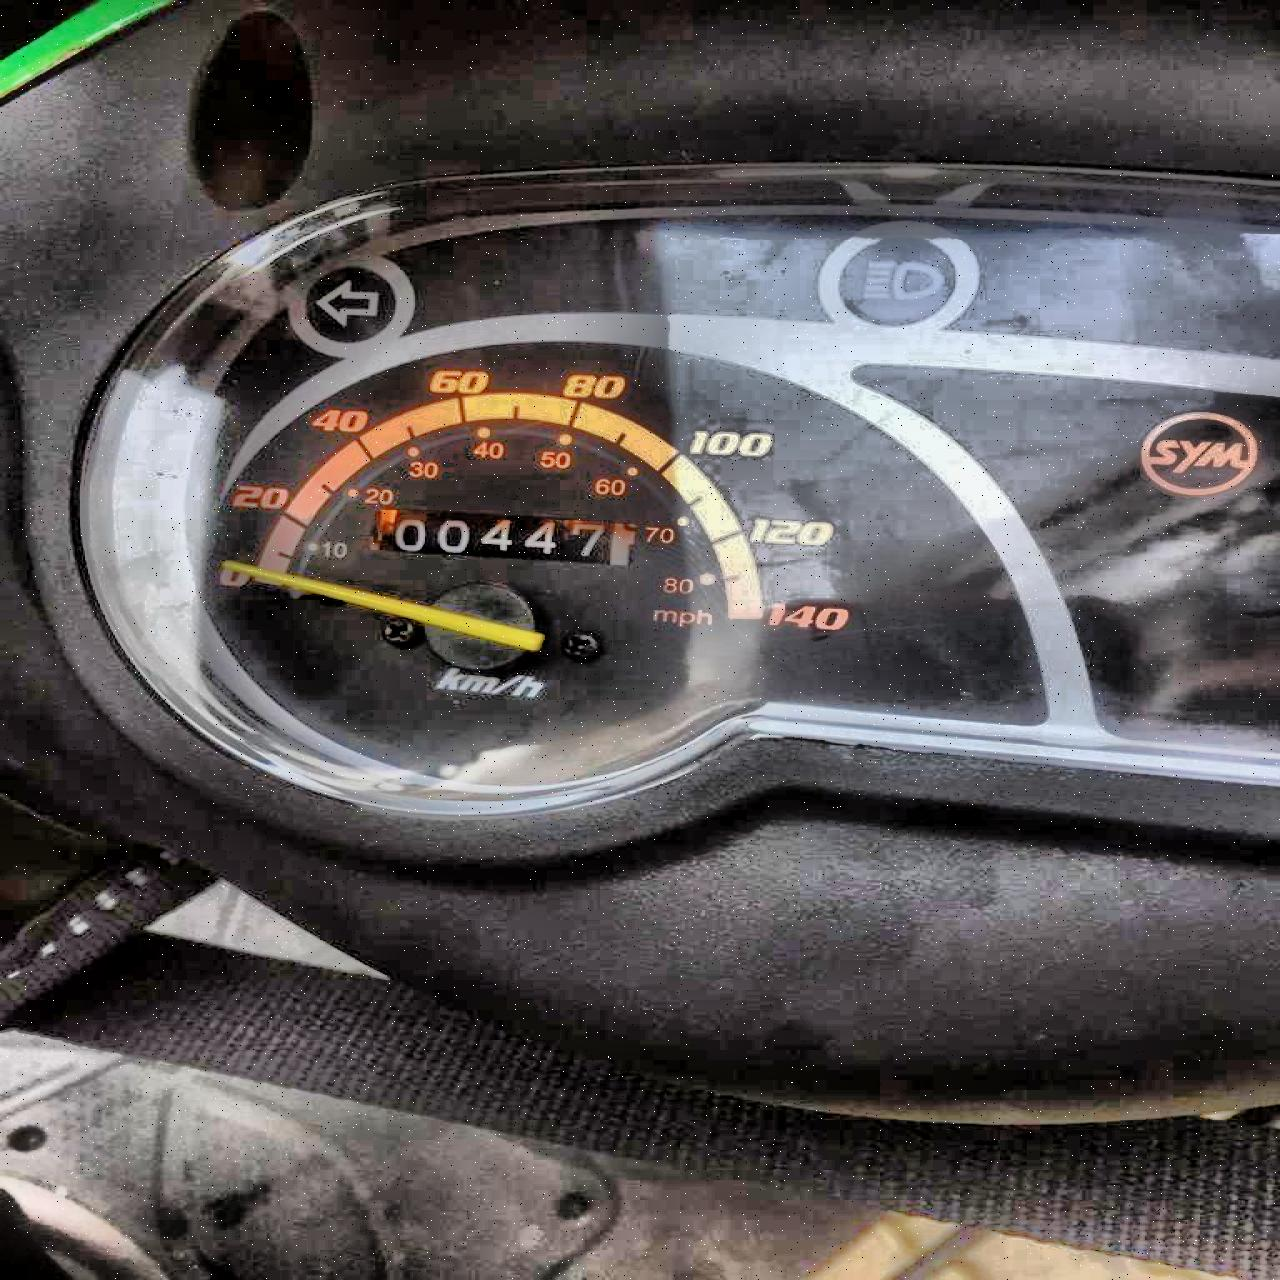0: (390, 515, 427, 551), (437, 516, 470, 553)
1: (619, 536, 639, 565)
4: (522, 518, 557, 553), (481, 517, 512, 551)
7: (568, 518, 604, 558)
odometer: (363, 503, 644, 567)
